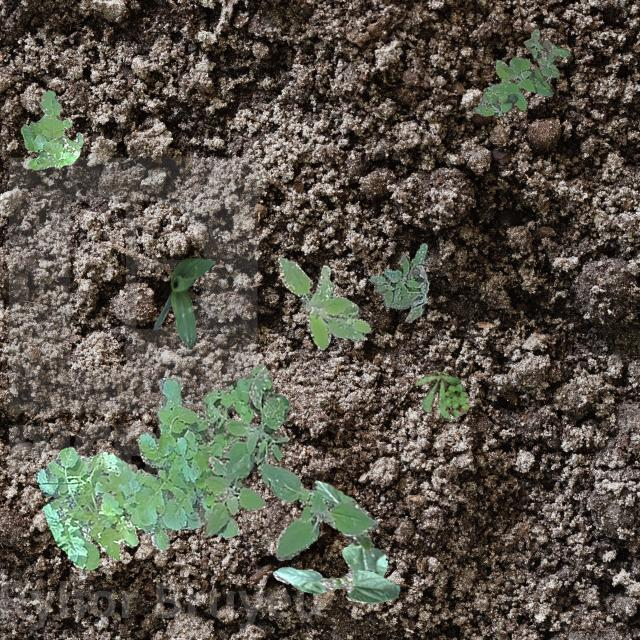crop: (312, 480, 386, 576), (152, 256, 214, 348), (272, 566, 398, 602)
weed: (35, 362, 272, 568), (202, 366, 376, 560), (276, 255, 369, 348), (472, 28, 568, 116), (19, 88, 82, 168), (368, 242, 428, 322), (414, 370, 468, 420), (476, 58, 526, 108)
